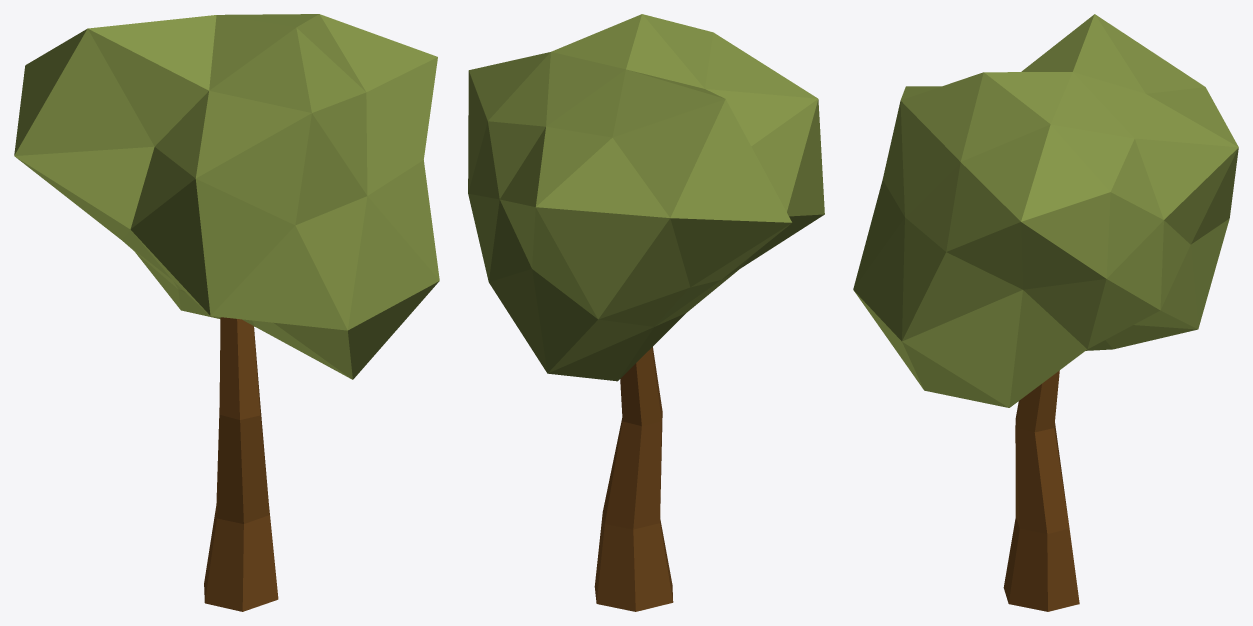
The model's file is yellow tree.fbx.
3 views of the same model, side by side, from view 1: azimuth 30°, elevation 25°; view 2: azimuth 150°, elevation 25°; view 3: azimuth 270°, elevation 25° (orthographic). The views are drawn at different scales.
Parts seen in each view (by area): view 1: pasted__pPlatonic2, pCylinder4; view 2: pasted__pPlatonic2, pCylinder4; view 3: pasted__pPlatonic2, pCylinder4.
Boxes of the visible parts, box(x1,y1,x2,y2) form: pasted__pPlatonic2: box(14, 14, 439, 379); pCylinder4: box(204, 317, 278, 611); pasted__pPlatonic2: box(468, 14, 824, 381); pCylinder4: box(594, 347, 673, 611); pasted__pPlatonic2: box(853, 14, 1238, 407); pCylinder4: box(1003, 370, 1079, 611).
Bounding box in the file's own units: 9.88 × 14.39 × 9.4.
